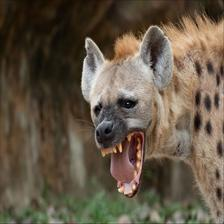hyena: (73, 4, 224, 224)
